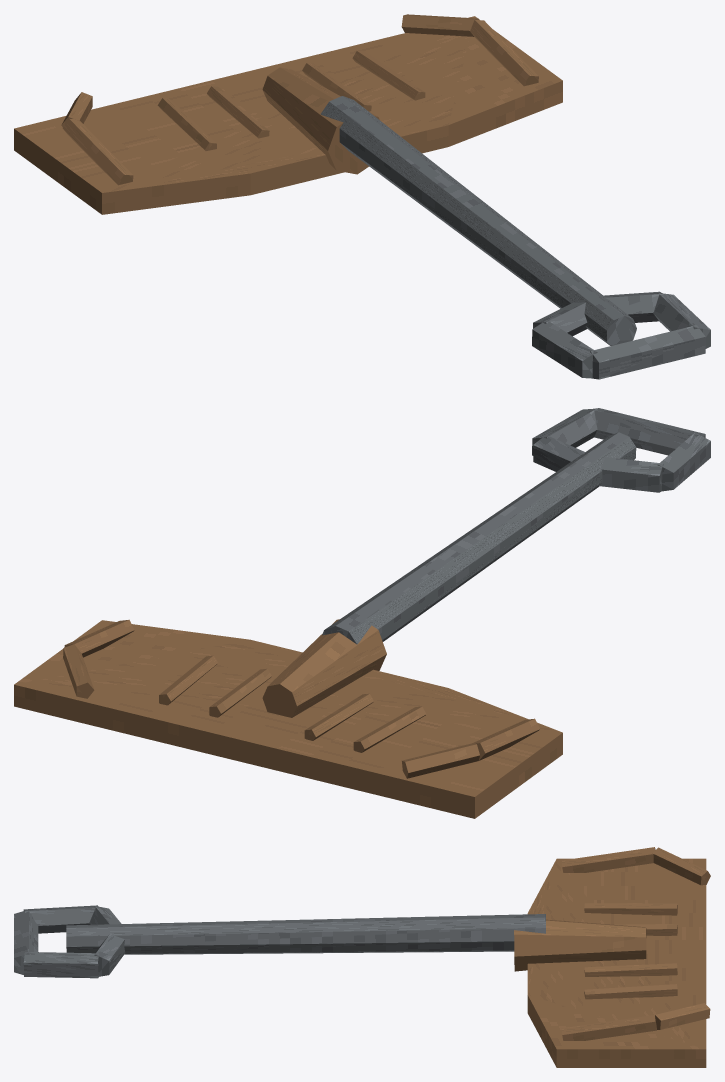
The model's file is shovel_snow_plastic.glb.
3 renders of one model, top to bottom at view 1: azimuth 30°, elevation 25°; view 2: azimuth 150°, elevation 25°; view 3: azimuth 270°, elevation 25°, orthographic. The views are drawn at different scales.
Parts seen in each view (by area): view 1: block_dished shovel head, block_handle, block_socket, block_molded scoop rib 0 (×4), block_D handle 2, block_raised scoop edge 0 (×2), block_D handle 1, block_raised scoop edge 1, block_D handle 3, block_D handle 4, block_D handle 0; view 2: block_dished shovel head, block_handle, block_socket, block_molded scoop rib 0 (×4), block_D handle 2, block_raised scoop edge 1 (×2), block_raised scoop edge 0 (×2), block_D handle 0, block_D handle 1, block_D handle 3, block_D handle 4; view 3: block_dished shovel head, block_handle, block_socket, block_molded scoop rib 0 (×4), block_raised scoop edge 0 (×2), block_D handle 3, block_raised scoop edge 1 (×2), block_D handle 1, block_D handle 2, block_D handle 4, block_D handle 0.
Part boxes in pixels (<box>): block_dished shovel head: <box>14,16,562,214</box>; block_handle: <box>321,96,636,345</box>; block_socket: <box>262,67,379,174</box>; block_molded scoop rib 0 (×4): <box>157,50,425,150</box>; block_D handle 2: <box>590,325,705,379</box>; block_raised scoop edge 0 (×2): <box>62,20,538,185</box>; block_D handle 1: <box>532,320,597,378</box>; block_raised scoop edge 1: <box>401,14,478,36</box>; block_D handle 3: <box>653,293,710,348</box>; block_D handle 4: <box>604,291,663,322</box>; block_D handle 0: <box>533,302,587,336</box>; block_dished shovel head: <box>14,620,562,818</box>; block_handle: <box>322,432,636,644</box>; block_socket: <box>262,619,386,717</box>; block_molded scoop rib 0 (×4): <box>159,655,426,752</box>; block_D handle 2: <box>590,408,705,455</box>; block_raised scoop edge 1 (×2): <box>63,644,479,778</box>; block_raised scoop edge 0 (×2): <box>64,619,539,760</box>; block_D handle 0: <box>599,457,663,492</box>; block_D handle 1: <box>657,432,710,491</box>; block_D handle 3: <box>532,408,597,455</box>; block_D handle 4: <box>533,435,585,471</box>; block_dished shovel head: <box>527,858,706,1067</box>; block_handle: <box>66,914,545,954</box>; block_socket: <box>514,919,646,971</box>; block_molded scoop rib 0 (×4): <box>584,903,677,999</box>; block_raised scoop edge 0 (×2): <box>561,847,656,1040</box>; block_D handle 3: <box>23,952,98,978</box>; block_raised scoop edge 1 (×2): <box>652,847,710,1029</box>; block_D handle 1: <box>23,905,98,933</box>; block_D handle 2: <box>14,909,38,974</box>; block_D handle 4: <box>94,933,125,976</box>; block_D handle 0: <box>89,906,121,924</box>.
Size of the model in its own units: 0.9715 by 0.1345 by 1.5.
1 material, 1 textured.
